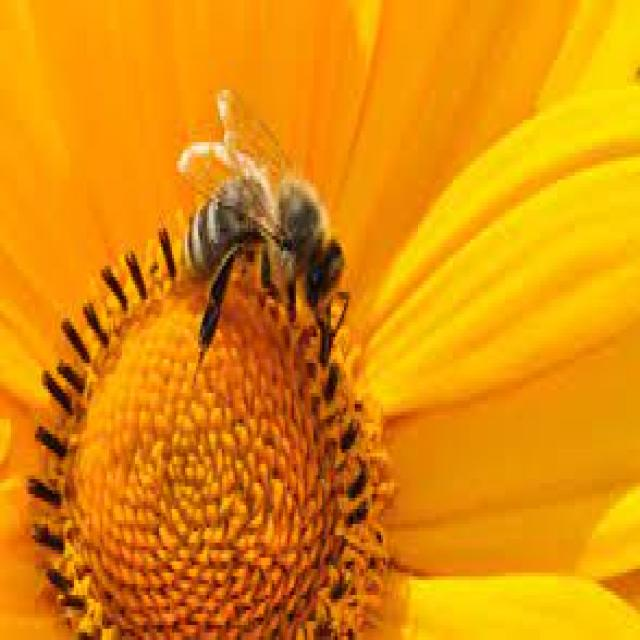Bees: (175, 86, 351, 379)
